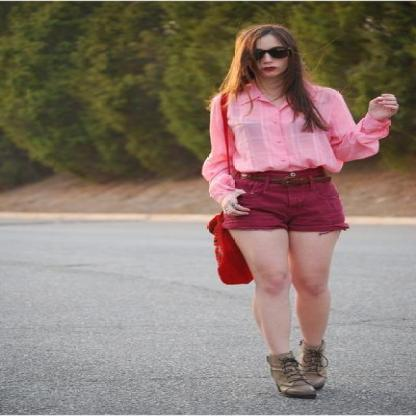bag: (207, 108, 253, 284)
shirt: (202, 80, 391, 206)
shoe: (266, 347, 327, 399)
skirt: (222, 162, 348, 235)
sunglass: (266, 39, 298, 57)
